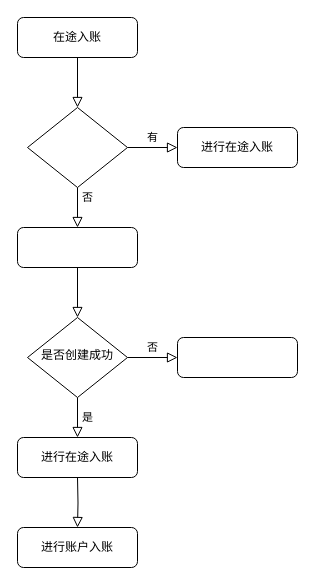
This 315x585 diagram has some shape labels left out. Here are the shapes that lost their labels. From the top down, the box of each, then its label:
(26, 106, 128, 188): 是否有财务账户？
(16, 226, 138, 268): 调用收益系统 创建收益账户
(176, 336, 298, 378): 直接返回错误 等待用户重试
